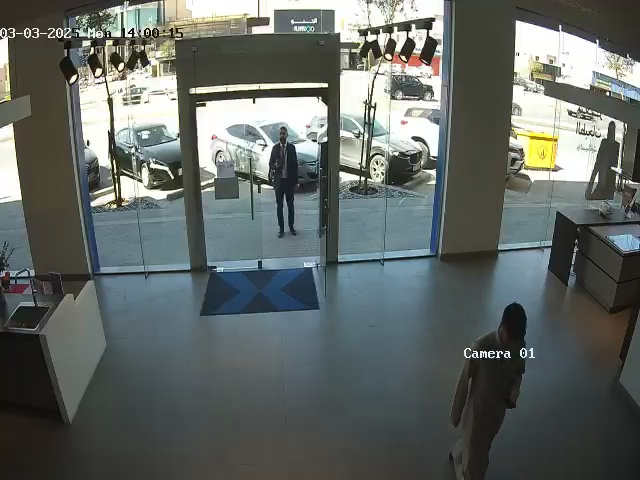employee: (268, 126, 300, 237)
male: (450, 302, 528, 480)
